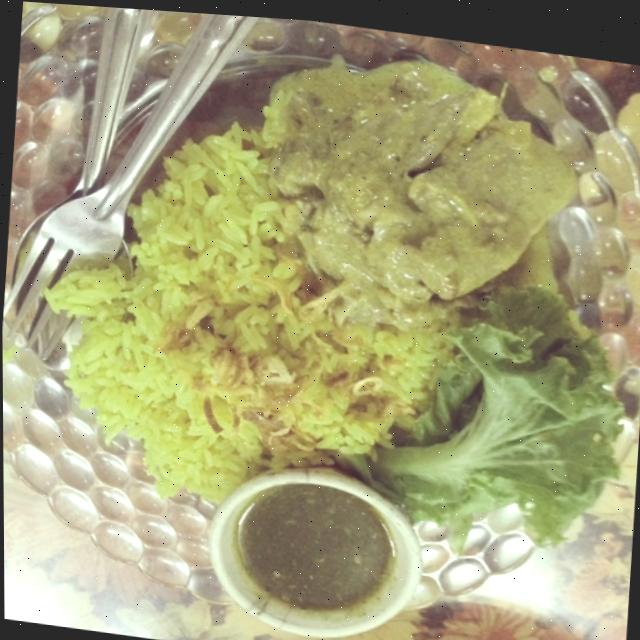米饭主食: (12, 17, 620, 640)
